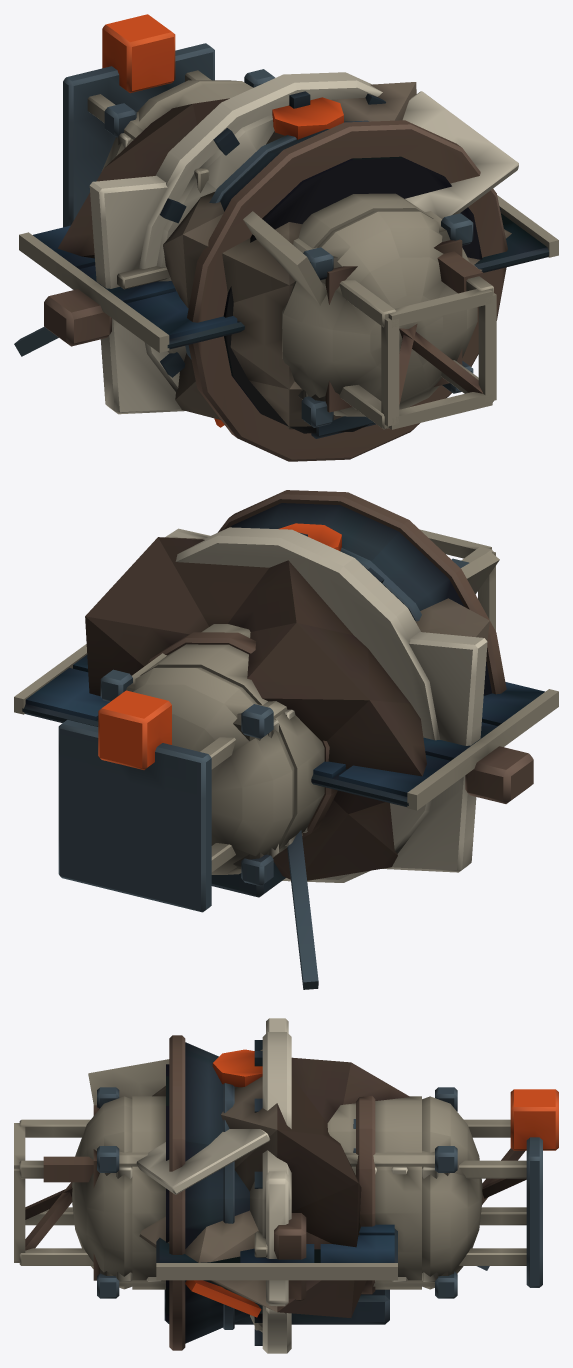
Rendered from debris.glb.
3 views of the same model, one above another, from view 1: azimuth 30°, elevation 25°; view 2: azimuth 150°, elevation 25°; view 3: azimuth 270°, elevation 25° (orthographic). The views are drawn at different scales.
Parts seen in each view (by area): view 1: bell, tank, chunk, truss, panel, plate, hatch, container, dish; view 2: chunk, truss, tank, panel, hatch, bell, plate, container; view 3: tank, chunk, truss, bell, panel, hatch, container, plate, dish.
Boxes of the visible parts, box(x1,y1,x2,y2) form: bell: box(185, 120, 507, 461); tank: box(101, 80, 477, 438); chunk: box(14, 82, 518, 429); truss: box(63, 14, 496, 429); panel: box(19, 195, 558, 352); plate: box(89, 168, 209, 414); hatch: box(139, 72, 385, 427); container: box(104, 69, 473, 427); dish: box(156, 114, 274, 361); chunk: box(85, 528, 499, 989); truss: box(58, 529, 495, 912); tank: box(132, 523, 341, 897); panel: box(14, 644, 558, 810); hatch: box(175, 527, 440, 882); bell: box(217, 490, 506, 695); plate: box(382, 632, 487, 872); container: box(100, 558, 469, 886); tank: box(72, 1049, 482, 1324); chunk: box(88, 1057, 489, 1317); truss: box(14, 1089, 558, 1287); bell: box(166, 1035, 355, 1350); panel: box(156, 1224, 397, 1280); hatch: box(254, 1032, 306, 1353); container: box(93, 1087, 457, 1298); plate: box(254, 1018, 288, 1330); dish: box(250, 1049, 262, 1332).
Size of the model in its own units: 2.67 by 2 by 3.38.
